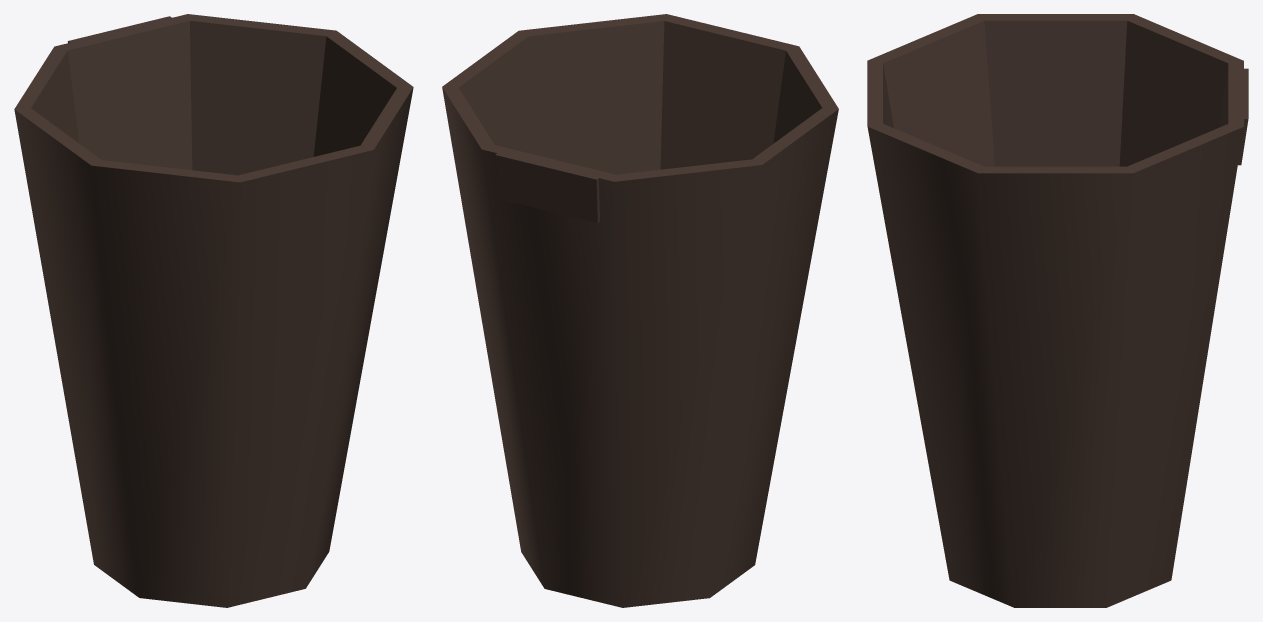
Rendered from Itr_Trashcan3_Body_06.FBX.
The picture shows the model from 3 angles, left to right: view 1: azimuth 30°, elevation 25°; view 2: azimuth 150°, elevation 25°; view 3: azimuth 270°, elevation 25°; orthographic projection.
Visible parts, largest first — view 1: Itr_Trashcan3_Body_06; view 2: Itr_Trashcan3_Body_06; view 3: Itr_Trashcan3_Body_06.
Boxes of the visible parts, x1,y1,x2,y2 form: Itr_Trashcan3_Body_06: (14, 14, 413, 607); Itr_Trashcan3_Body_06: (442, 14, 838, 607); Itr_Trashcan3_Body_06: (867, 14, 1248, 607).
Bounding box in the file's own units: 13.72 × 18.79 × 13.88.
